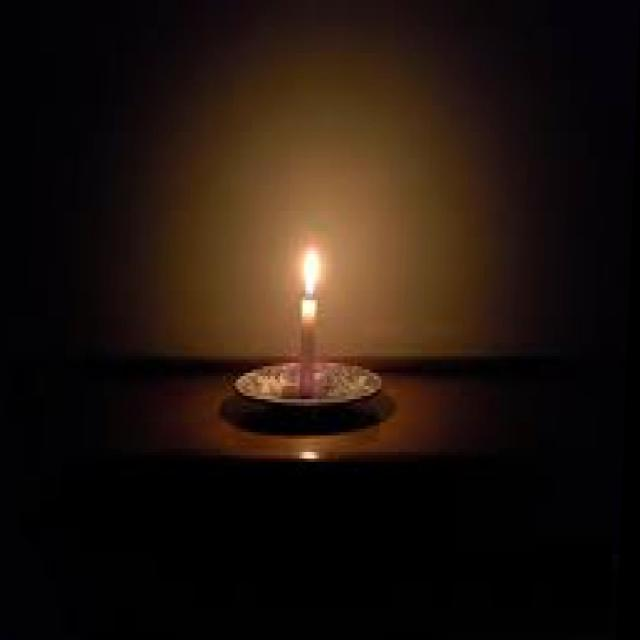fire: (295, 234, 336, 307)
